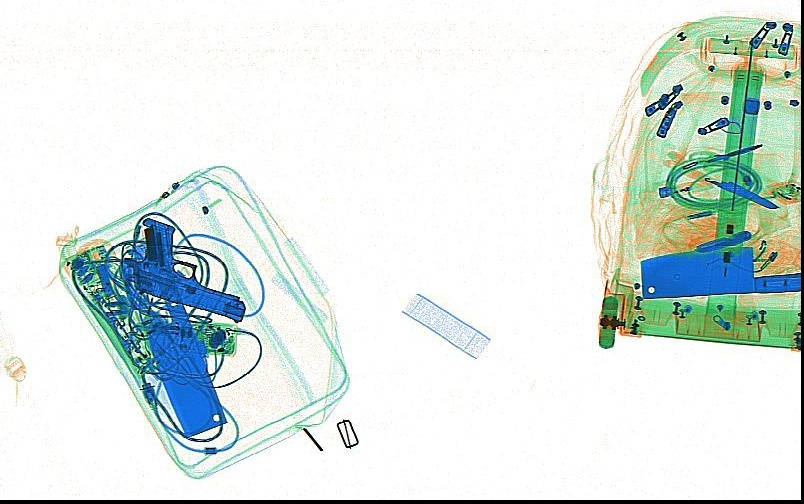knife: (144, 250, 228, 438), (639, 245, 799, 299), (663, 158, 780, 209), (688, 228, 752, 252)
lighter: (658, 174, 716, 198)
scissors: (688, 142, 762, 173)
